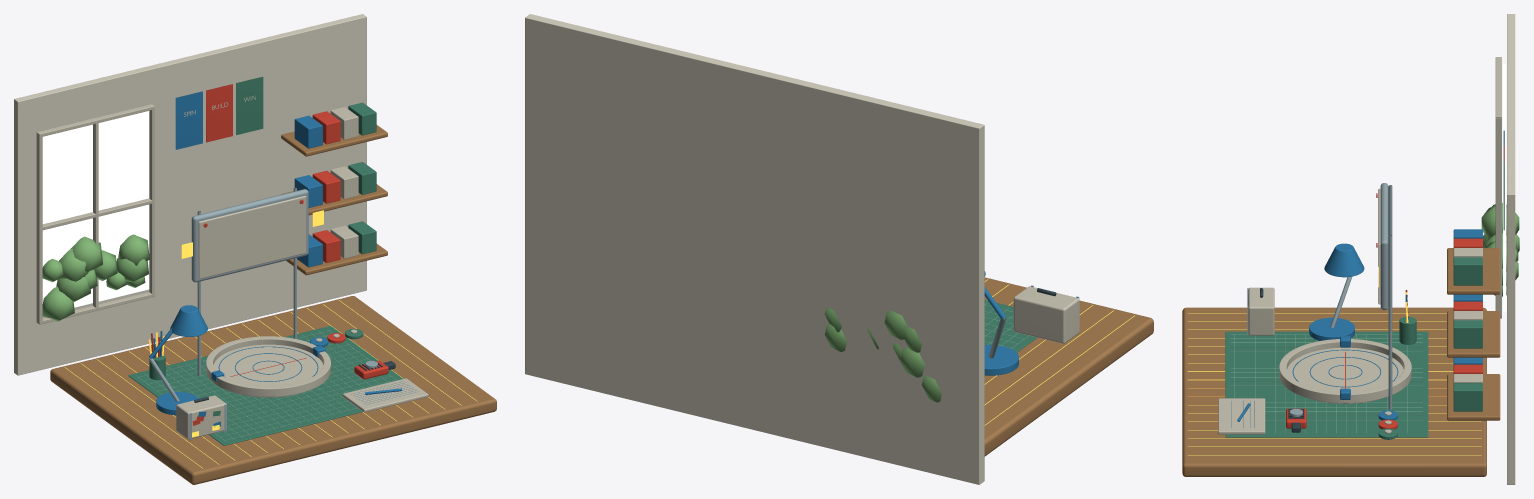
File: childhood_lab.glb
3 views of the same model, side by side, from view 1: azimuth 30°, elevation 25°; view 2: azimuth 150°, elevation 25°; view 3: azimuth 270°, elevation 25° (orthographic). The views are drawn at different scales.
Parts seen in each view (by area): view 1: Warm_plaster, Honey_oak, Ivory_plastic, Window_daylight, Cutting_mat, Cobalt_enamel, Garden_leaves, Vermilion, Brushed_aluminium.001, Mat_grid, Amber; view 2: Warm_plaster, Honey_oak, Ivory_plastic, Garden_leaves, Cutting_mat, Cobalt_enamel; view 3: Honey_oak, Cutting_mat, Ivory_plastic, Warm_plaster, Cobalt_enamel, Brushed_aluminium.001, Amber, Mat_grid, Vermilion, Garden_leaves, Window_daylight.
Part boxes in pixels (box(x1,y1,x2,y2)): Warm_plaster: box(14, 14, 366, 375); Honey_oak: box(50, 125, 496, 484); Ivory_plastic: box(36, 95, 428, 439); Window_daylight: box(42, 111, 149, 307); Cutting_mat: box(128, 76, 402, 445); Cobalt_enamel: box(149, 91, 418, 427); Garden_leaves: box(42, 234, 149, 321); Vermilion: box(151, 84, 388, 425); Brushed_aluminium.001: box(148, 187, 377, 440); Mat_grid: box(136, 329, 396, 441); Amber: box(64, 210, 477, 468); Warm_plaster: box(525, 14, 984, 484); Honey_oak: box(984, 277, 1153, 456); Ivory_plastic: box(1013, 286, 1079, 343); Garden_leaves: box(824, 307, 941, 402); Cutting_mat: box(984, 300, 1037, 375); Cobalt_enamel: box(984, 271, 1018, 375); Honey_oak: box(1182, 248, 1500, 476); Cutting_mat: box(1225, 161, 1504, 439); Ivory_plastic: box(1218, 57, 1501, 434); Warm_plaster: box(1507, 14, 1515, 484); Cobalt_enamel: box(1231, 130, 1504, 427); Brushed_aluminium.001: box(1247, 183, 1392, 439); Amber: box(1187, 267, 1481, 455); Mat_grid: box(1231, 334, 1422, 433); Vermilion: box(1248, 146, 1504, 429); Garden_leaves: box(1481, 203, 1519, 296); Window_daylight: box(1503, 63, 1506, 311).
Size of the model in its own units: 8 by 6.09 by 6.31.
